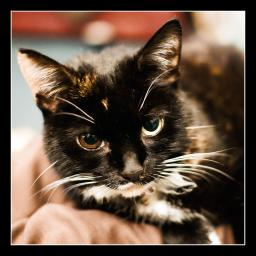catnose: (118, 150, 144, 182)
